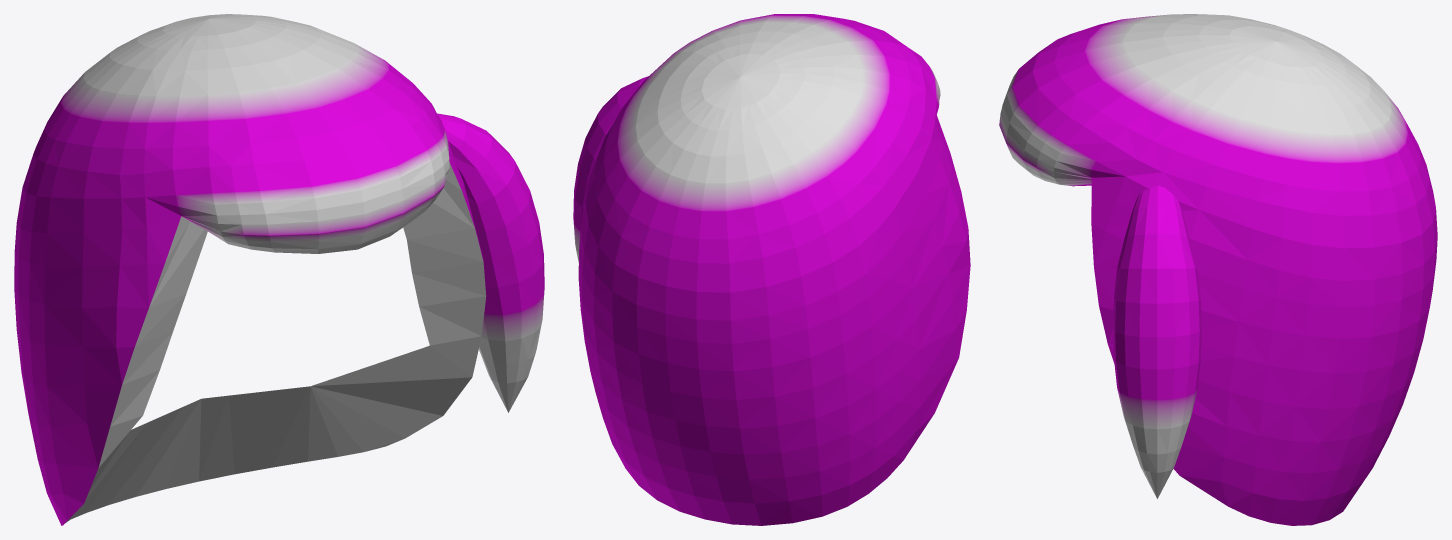
3 renders of one model, left to right at view 1: azimuth 30°, elevation 25°; view 2: azimuth 150°, elevation 25°; view 3: azimuth 270°, elevation 25°, orthographic. The views are drawn at different scales.
Visible parts, largest first — view 1: shape; view 2: shape; view 3: shape.
Boxes of the visible parts, left/top/right/bottom form: shape: left=14, top=14, right=544, bottom=525; shape: left=573, top=14, right=970, bottom=525; shape: left=999, top=14, right=1437, bottom=525.
Size of the model in its own units: 68.85 by 73.96 by 64.98.
